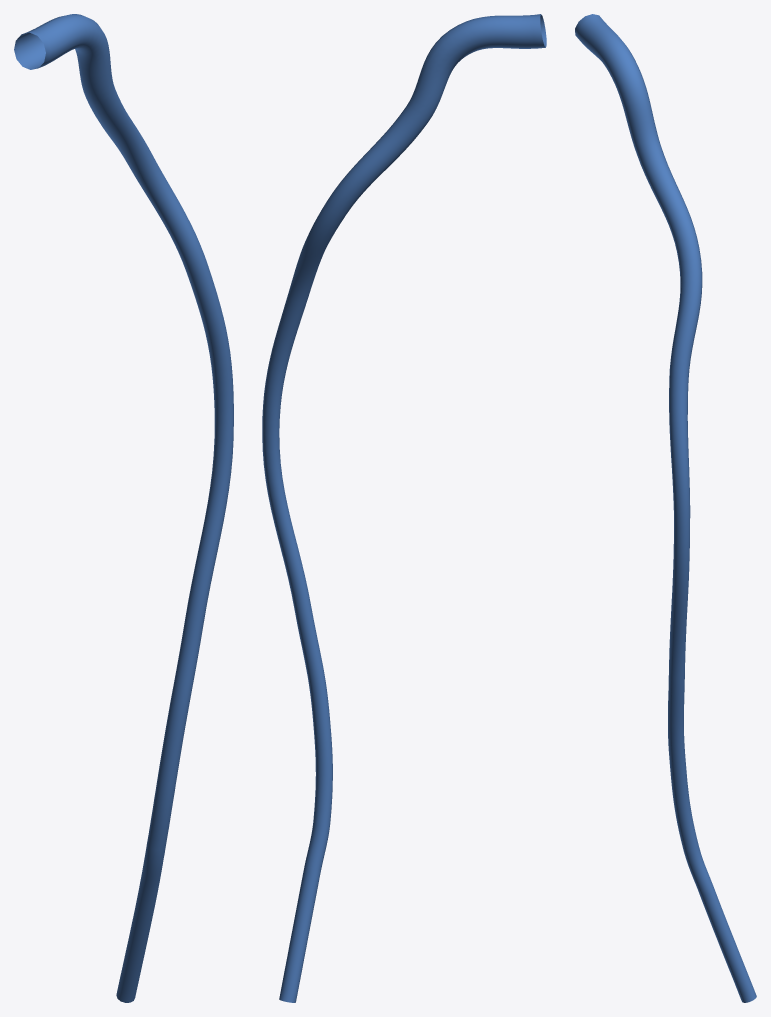
3 renders of one model, left to right at view 1: azimuth 30°, elevation 25°; view 2: azimuth 150°, elevation 25°; view 3: azimuth 270°, elevation 25°, orthographic. The views are drawn at different scales.
Parts seen in each view (by area): view 1: 右侧上颌静脉; view 2: 右侧上颌静脉; view 3: 右侧上颌静脉.
Part boxes in pixels (x1,y1,x2,y2): 右侧上颌静脉: [14, 14, 233, 1002]; 右侧上颌静脉: [262, 14, 546, 1002]; 右侧上颌静脉: [575, 14, 756, 1002].
Size of the model in its own units: 0.0236 by 0.0919 by 0.0167.
